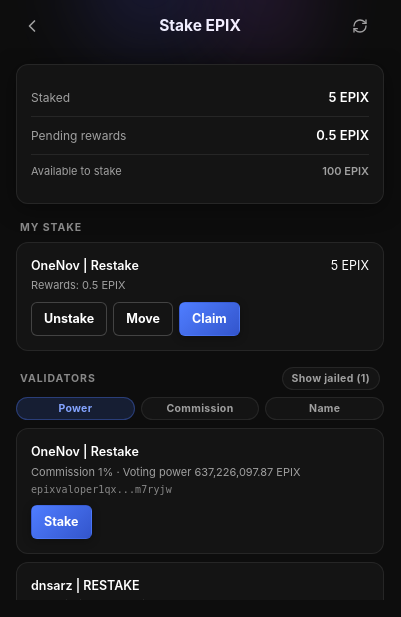
Scenario: 3. forms: Delegate, and the unbonding warning on Unstake › an empty amount is refused in the form and never reaches the store
Click the button "Stake".
click(61, 522)  # box [31, 505, 92, 539]
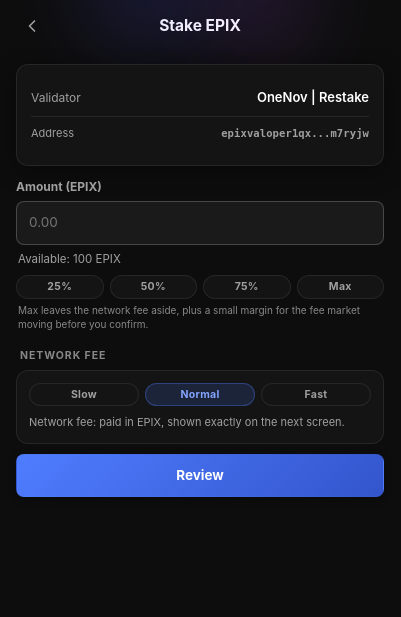
Click the button with test id "live-stake-review-submit".
click(200, 475)  # box [16, 454, 384, 497]
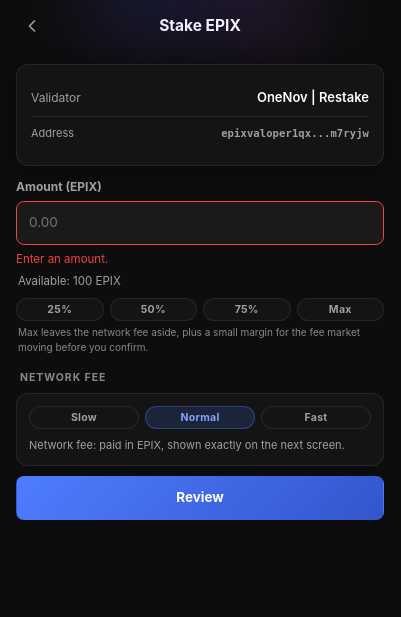
Now the text "Enter an amount." is shown, box [16, 252, 108, 266]
